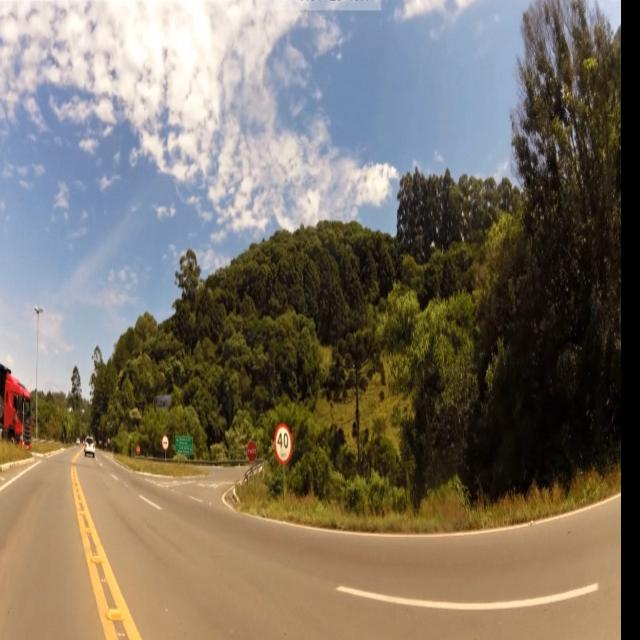R-19: (274, 423, 291, 464)
